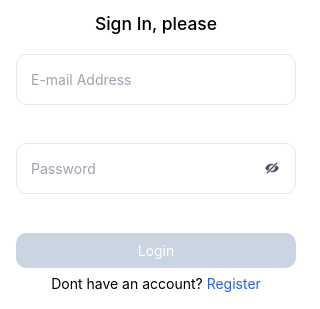
Test: displays an error message if the email is incorrect
This screenshot has width=320, height=309.
Type "invalidMailexample.com" into the field with placeholder "E-mail Address". click: (156, 79)
box: [16,54,296,104]
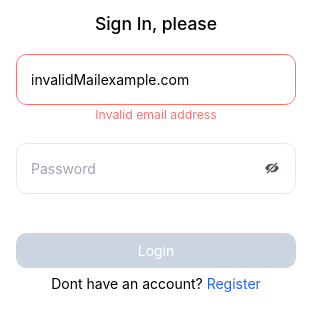
Check: the text "Invalid email address" is shown, box [95,107,217,122]
